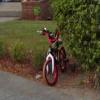Bicycle: (32, 20, 69, 94)
